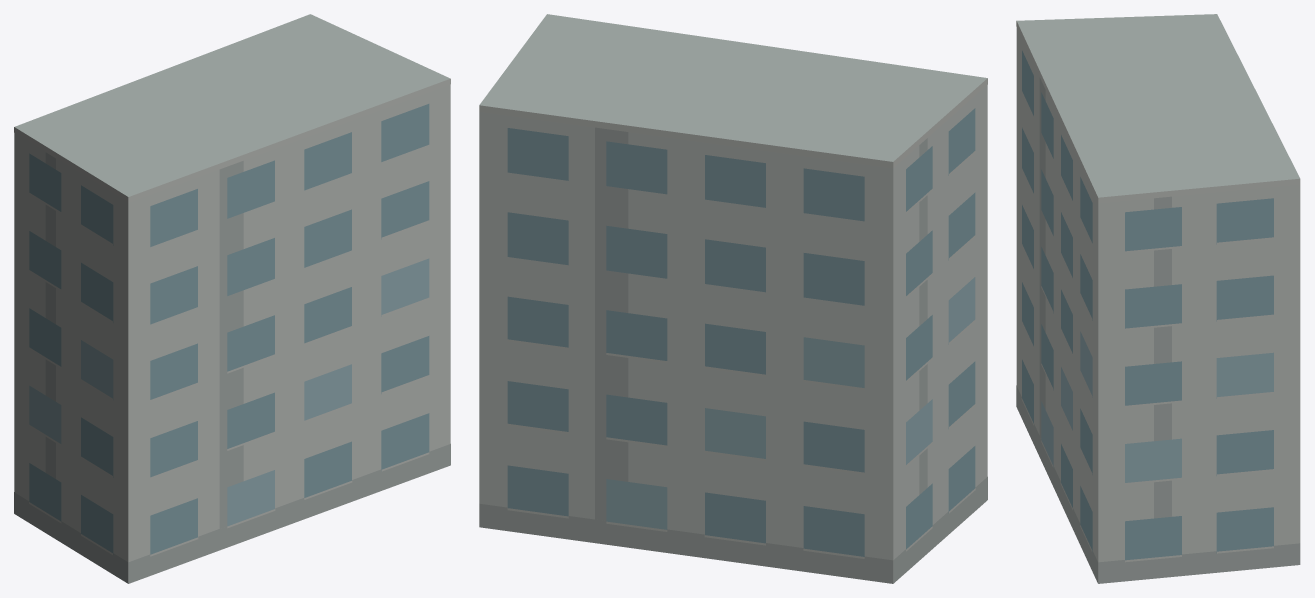
Rendered from survey-upis-33038808.glb.
3 renders of one model, left to right at view 1: azimuth 30°, elevation 25°; view 2: azimuth 150°, elevation 25°; view 3: azimuth 270°, elevation 25°, orthographic. The views are drawn at different scales.
Parts seen in each view (by area): view 1: survey-upis-33038808.tmp; view 2: survey-upis-33038808.tmp; view 3: survey-upis-33038808.tmp.
Part boxes in pixels (left/top/right/bottom): survey-upis-33038808.tmp: left=14, top=14, right=450, bottom=583; survey-upis-33038808.tmp: left=479, top=14, right=987, bottom=583; survey-upis-33038808.tmp: left=1016, top=14, right=1300, bottom=583.
Bounding box in the file's own units: 16.33 × 16 × 10.66.
